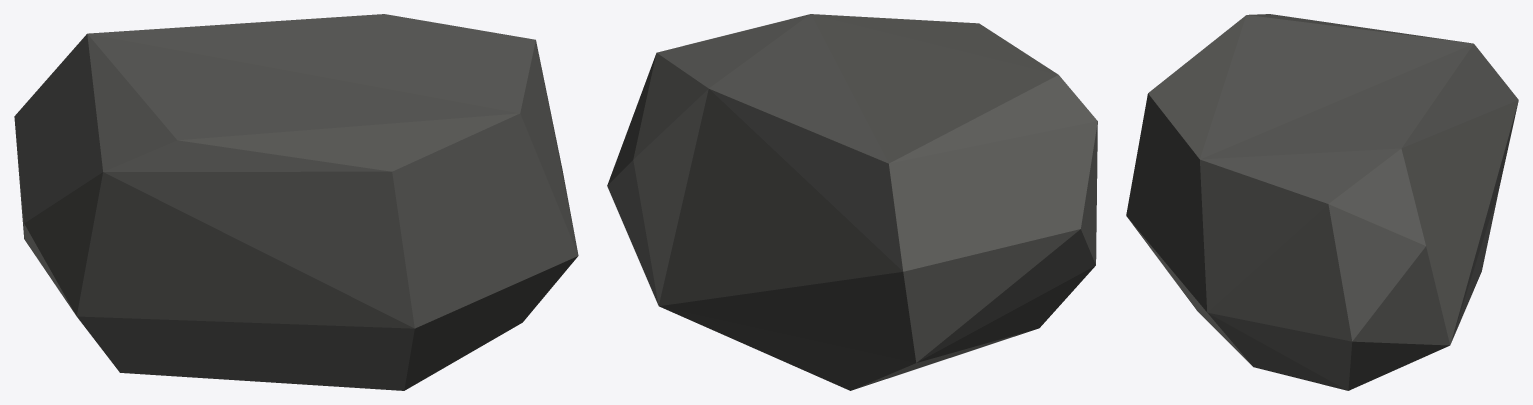
The model's file is SM_Envr_Nature_Rock_06.fbx.
3 views of the same model, side by side, from view 1: azimuth 30°, elevation 25°; view 2: azimuth 150°, elevation 25°; view 3: azimuth 270°, elevation 25° (orthographic). The views are drawn at different scales.
Parts seen in each view (by area): view 1: SM_Envr_Nature_Rock_06; view 2: SM_Envr_Nature_Rock_06; view 3: SM_Envr_Nature_Rock_06.
Part boxes in pixels (left/top/right/bottom): SM_Envr_Nature_Rock_06: left=14, top=14, right=578, bottom=390; SM_Envr_Nature_Rock_06: left=607, top=14, right=1097, bottom=390; SM_Envr_Nature_Rock_06: left=1126, top=14, right=1518, bottom=390.
Size of the model in its own units: 248 by 124 by 196.
